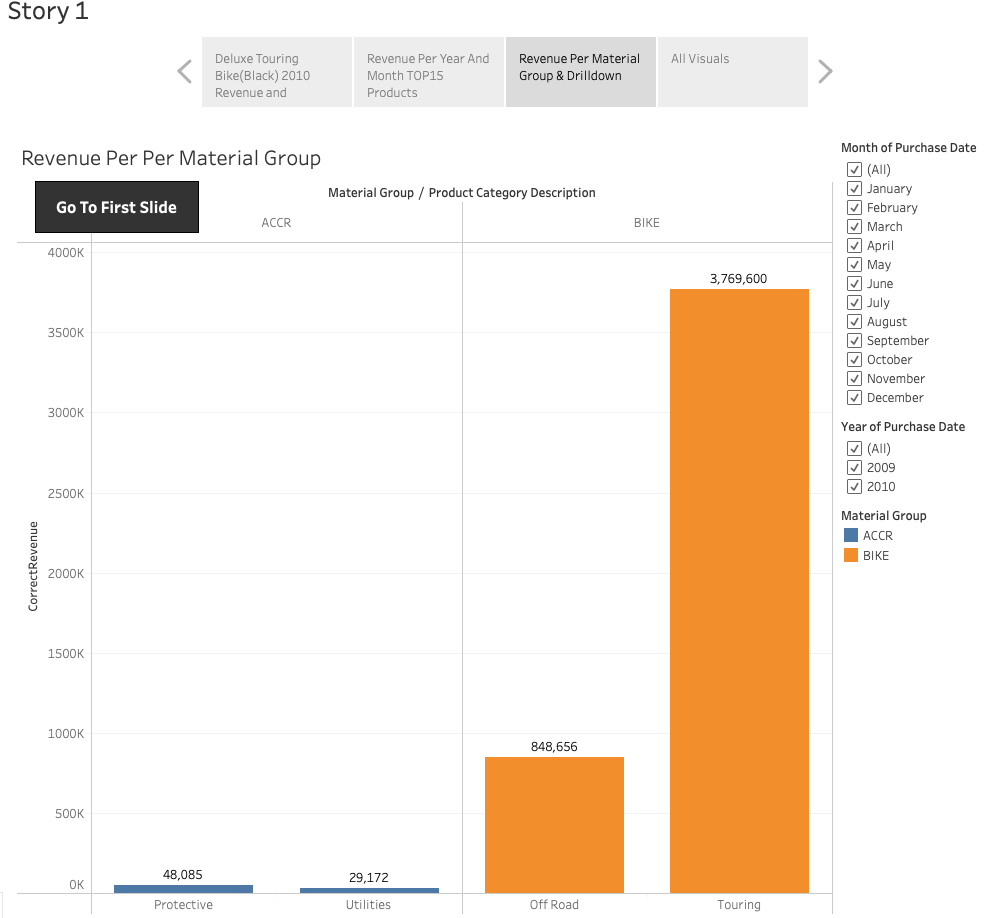

The page's visual inventory and layout, read from the dashboard file:
{"tool":"tableau","page":{"name":"Dashboard 3","canvas":[1000,800],"ordinal":2},"visuals":[{"type":"worksheet","title":"Revenue Per Per Material Group","mark":"Automatic","rows":["Calculation_6862148852629790720"],"cols":["Material Group","Product Category Description"],"box":[8,8,824,784]},{"type":"filter","title":"Revenue Per Per Material Group","param":"[federated.0aq4g421knp6zg1cujwxk1yxbvzn].[mn:Purchase Date:ok]","box":[832,8,160,279]},{"type":"dashboard-object","box":[30,54,164,52]},{"type":"filter","title":"Revenue Per Per Material Group","param":"[federated.0aq4g421knp6zg1cujwxk1yxbvzn].[yr:Purchase Date:ok]","box":[832,287,160,89]},{"type":"legend","title":"Revenue Per Per Material Group","param":"[federated.0aq4g421knp6zg1cujwxk1yxbvzn].[none:Material Group:nk]","box":[832,376,160,66]}]}

Visuals, with their boxes on the page's 1000x800 design canvas (x1, y1, x2, y2). These are canvas units, not pixel positions in the 1008x918 screenshot, which may show the page scaled, cropped or inside an application window:
"Revenue Per Per Material Group" worksheet: region(8, 8, 832, 792)
"Revenue Per Per Material Group" filter: region(832, 8, 992, 287)
dashboard-object: region(30, 54, 194, 106)
"Revenue Per Per Material Group" filter: region(832, 287, 992, 376)
"Revenue Per Per Material Group" legend: region(832, 376, 992, 442)
